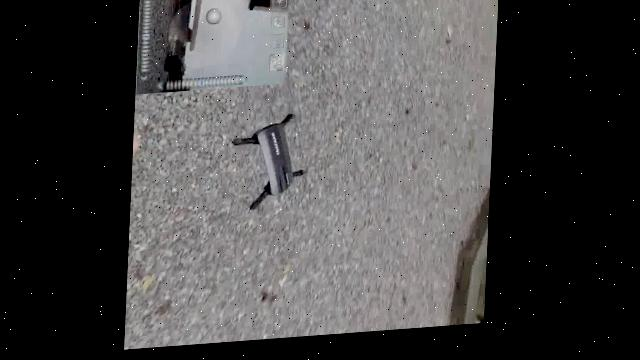drone: (226, 75, 328, 236)
